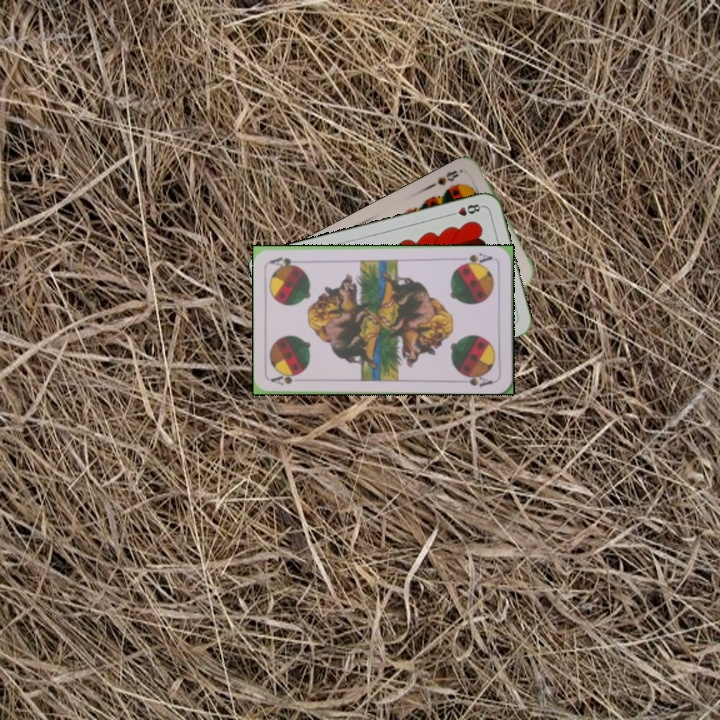H8: (445, 200, 485, 219)
S8: (428, 166, 461, 189)
SA: (456, 249, 495, 268), (268, 370, 308, 388)
